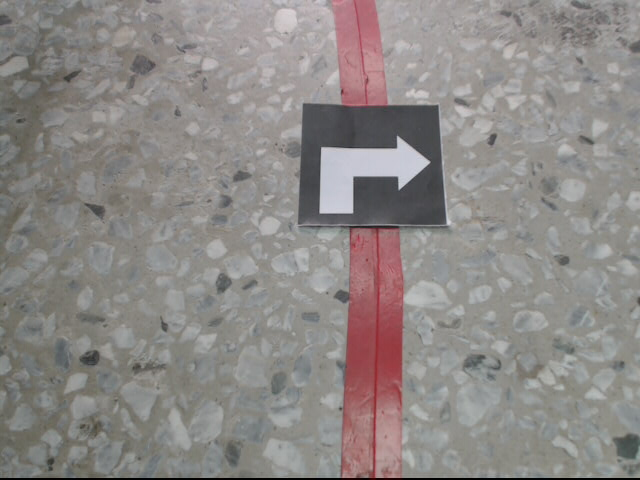right: (299, 103, 446, 226)
